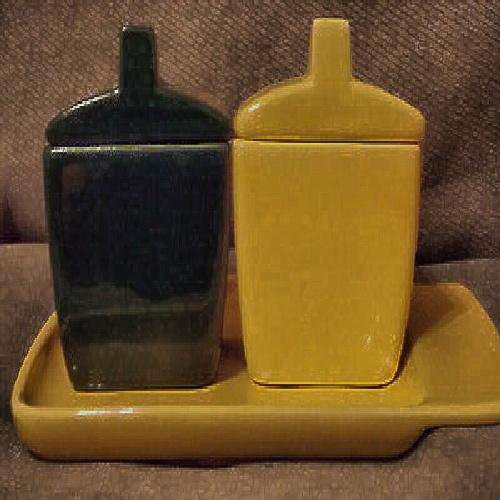toaster: (212, 63, 431, 390), (44, 74, 232, 368)
